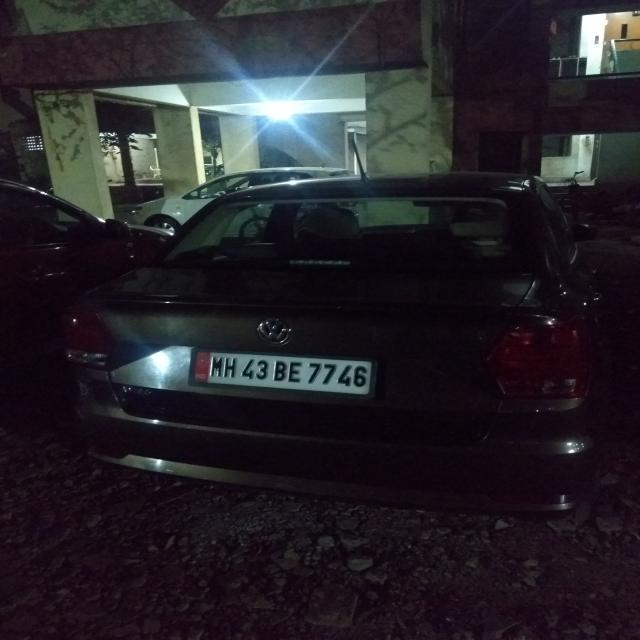Number-Plate: (201, 350, 366, 390)
